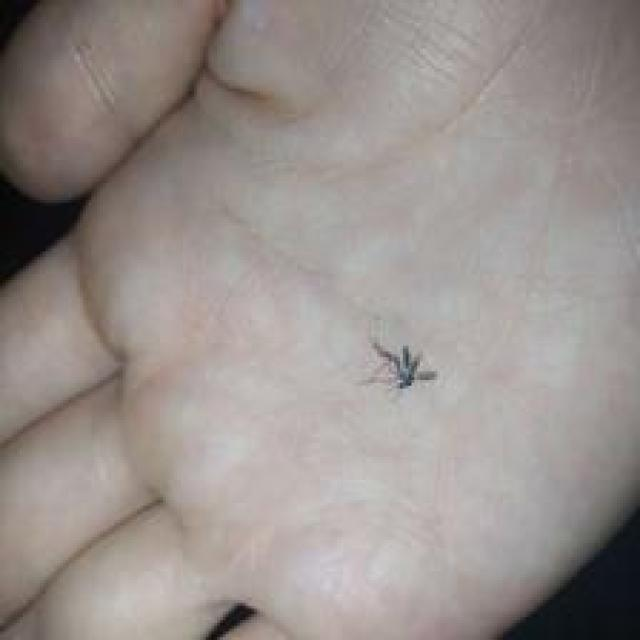Aedes albopictus: (363, 338, 437, 393)
